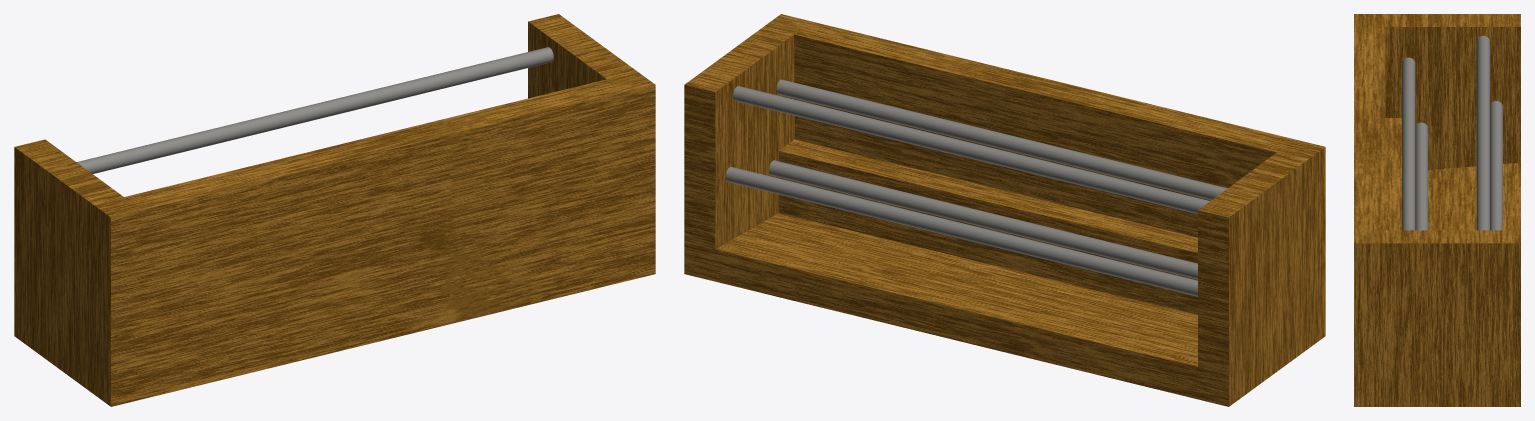
Rendered from ShoeRack.FBX.
3 views of the same model, side by side, from view 1: azimuth 30°, elevation 25°; view 2: azimuth 150°, elevation 25°; view 3: azimuth 270°, elevation 25° (orthographic). The views are drawn at different scales.
Visible parts, largest first — view 1: Box001, Cylinder002; view 2: Box001, Cylinder004, Cylinder002, Cylinder001, Cylinder003; view 3: Box001, Cylinder002, Cylinder001, Cylinder004, Cylinder003.
Part boxes in pixels (x1,y1,x2,y2): Box001: [14, 14, 655, 406]; Cylinder002: [76, 47, 553, 173]; Box001: [684, 14, 1325, 406]; Cylinder004: [725, 167, 1197, 296]; Cylinder002: [733, 86, 1209, 213]; Cylinder001: [776, 79, 1227, 200]; Cylinder003: [769, 160, 1197, 279]; Box001: [1354, 14, 1520, 406]; Cylinder002: [1476, 35, 1489, 230]; Cylinder001: [1402, 57, 1415, 230]; Cylinder004: [1490, 101, 1502, 230]; Cylinder003: [1415, 122, 1427, 230].
Size of the model in its own units: 98.31 by 32.67 by 30.23.
2 materials, 2 textured.
